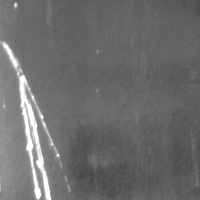scratches: (1, 40, 60, 200)
